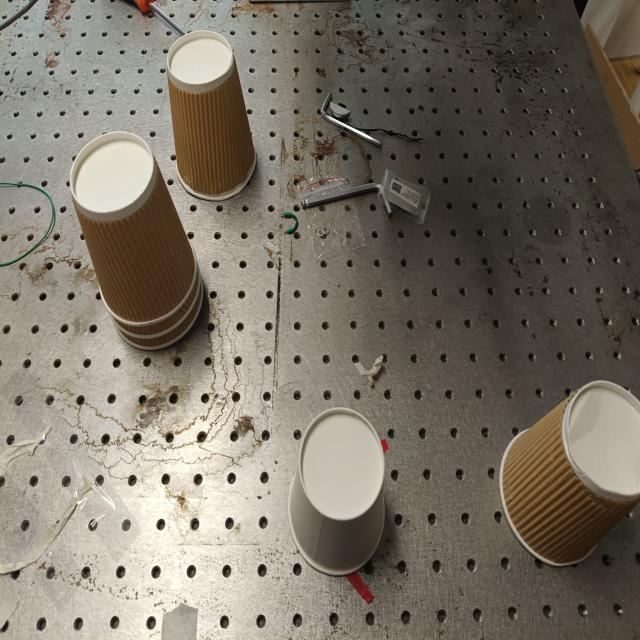Browncup: (70, 131, 198, 343), (499, 380, 640, 565), (167, 30, 257, 200), (117, 273, 199, 335), (120, 286, 202, 348)
Whitecup: (289, 408, 385, 576)
